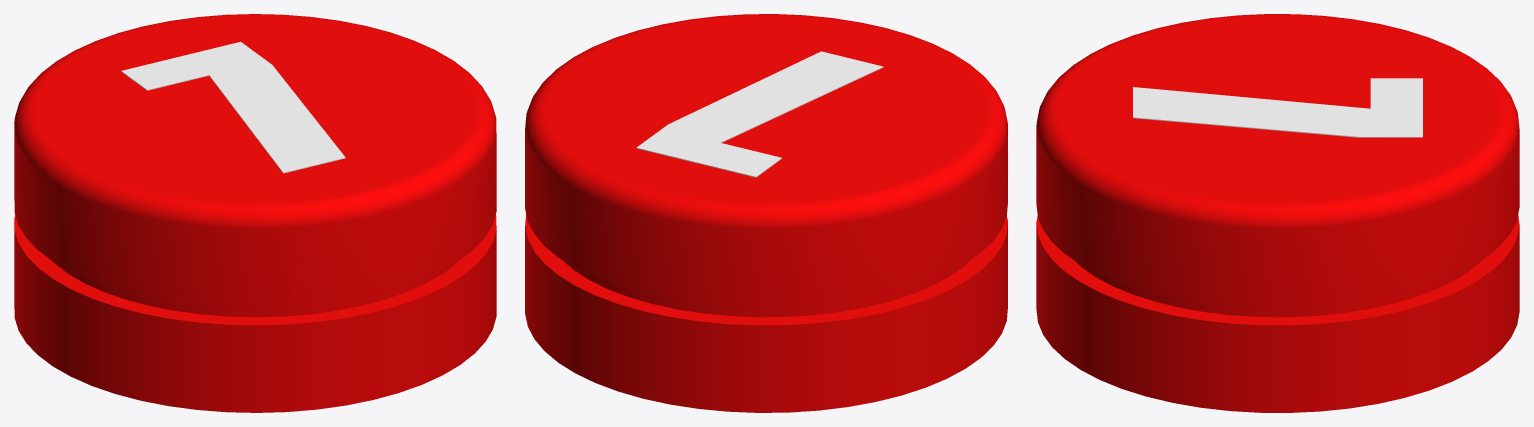
File: nubot_frame7_red.dae
3 views of the same model, side by side, from view 1: azimuth 30°, elevation 25°; view 2: azimuth 150°, elevation 25°; view 3: azimuth 270°, elevation 25° (orthographic).
Visible parts, largest first — view 1: SketchUp (×3), instance_0; view 2: SketchUp (×3), instance_0; view 3: SketchUp (×3), instance_0.
Boxes of the visible parts, <box> form: SketchUp (×3): <box>14,14,496,412</box>; instance_0: <box>121,41,345,173</box>; SketchUp (×3): <box>525,14,1007,412</box>; instance_0: <box>636,51,883,177</box>; SketchUp (×3): <box>1036,14,1519,412</box>; instance_0: <box>1133,78,1422,137</box>.
Bounding box in the file's own units: 19.66 × 19.68 × 9.09.
